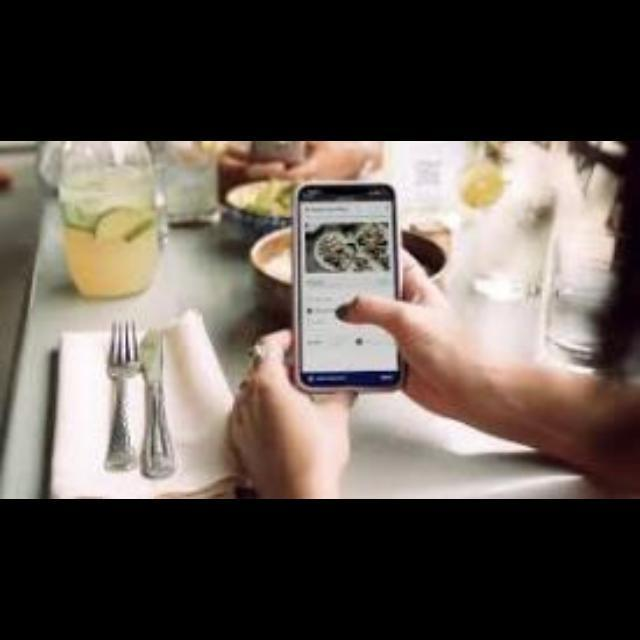PhoneUse: (290, 182, 404, 394)
